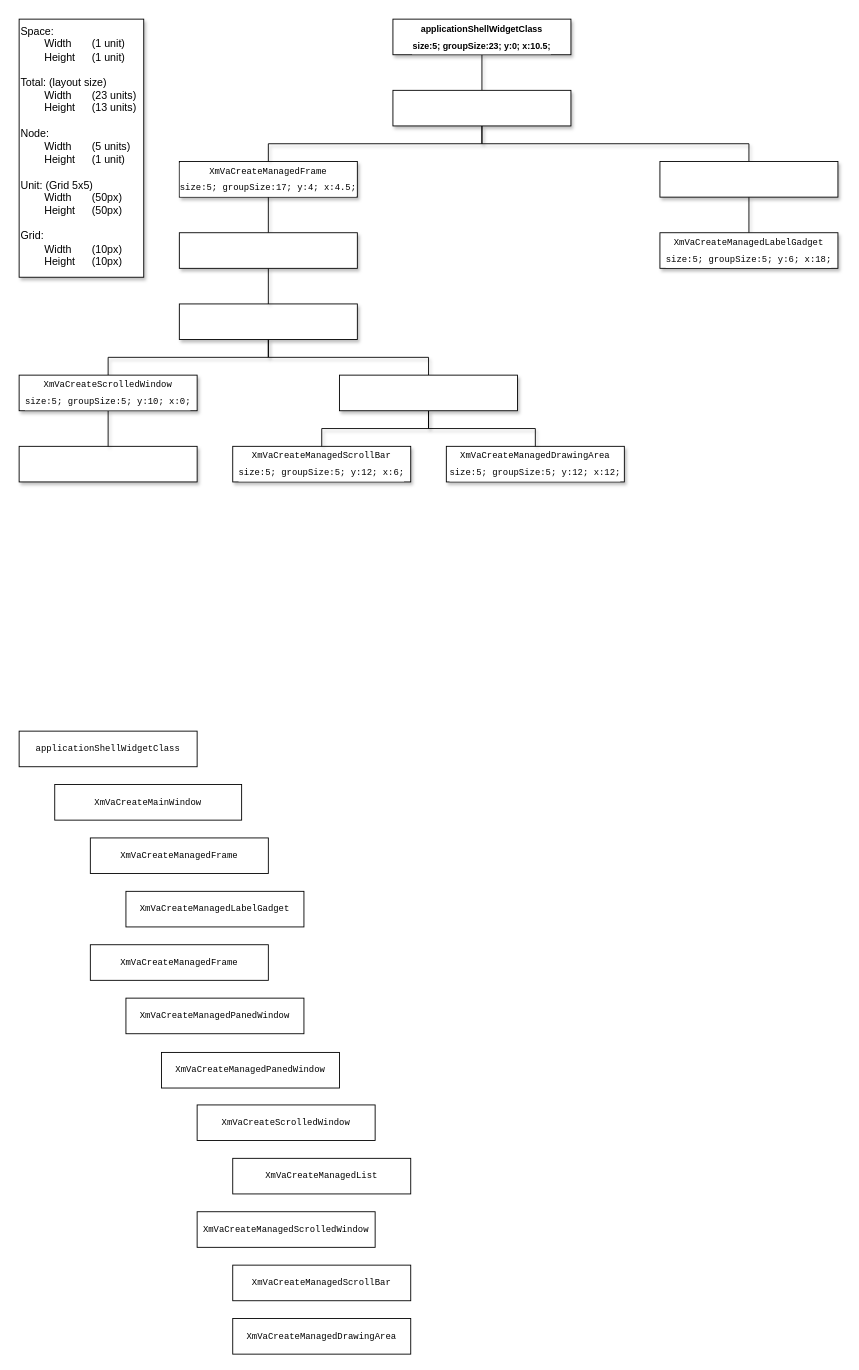
Some shapes in this 859 by 1370 pixel diagram are drawn without their labels. Here are the shapes that lost their labels. From the top down, the centre of each, then its label:
At [482,109]: "XmVaCreateMainWindow size:5; groupSize:23; y:2; x:10.5;".
At [749,180]: "XmVaCreateManagedFrame size:5; groupSize:5; y:4; 18;".
At [269,251]: "XmVaCreateManagedPanedWindow size:5;groupSize:17; y:6; x:4.5;".
At [269,322]: "XmVaCreateManagedPanedWindow size:5; groupSize:17; y:8; x:4.5;".
At [429,394]: "XmVaCreateManagedScrolledWindow size:5; groupSize:11; y:10; x:9;".
At [108,465]: "XmVaCreateManagedList size:5; groupSize:5; y:12; x:0;".
